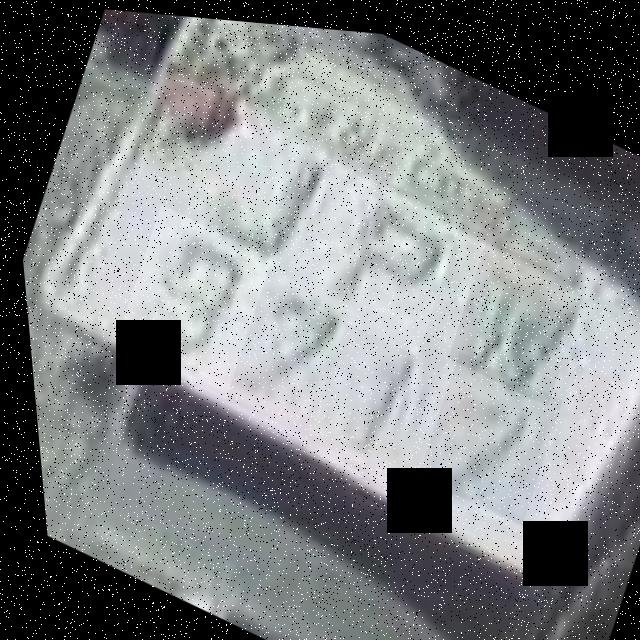1: (307, 294, 454, 473)
7: (400, 340, 564, 521)
9: (97, 198, 277, 402)
B: (433, 227, 590, 400)
J: (158, 86, 350, 301)
P: (278, 144, 471, 353)
